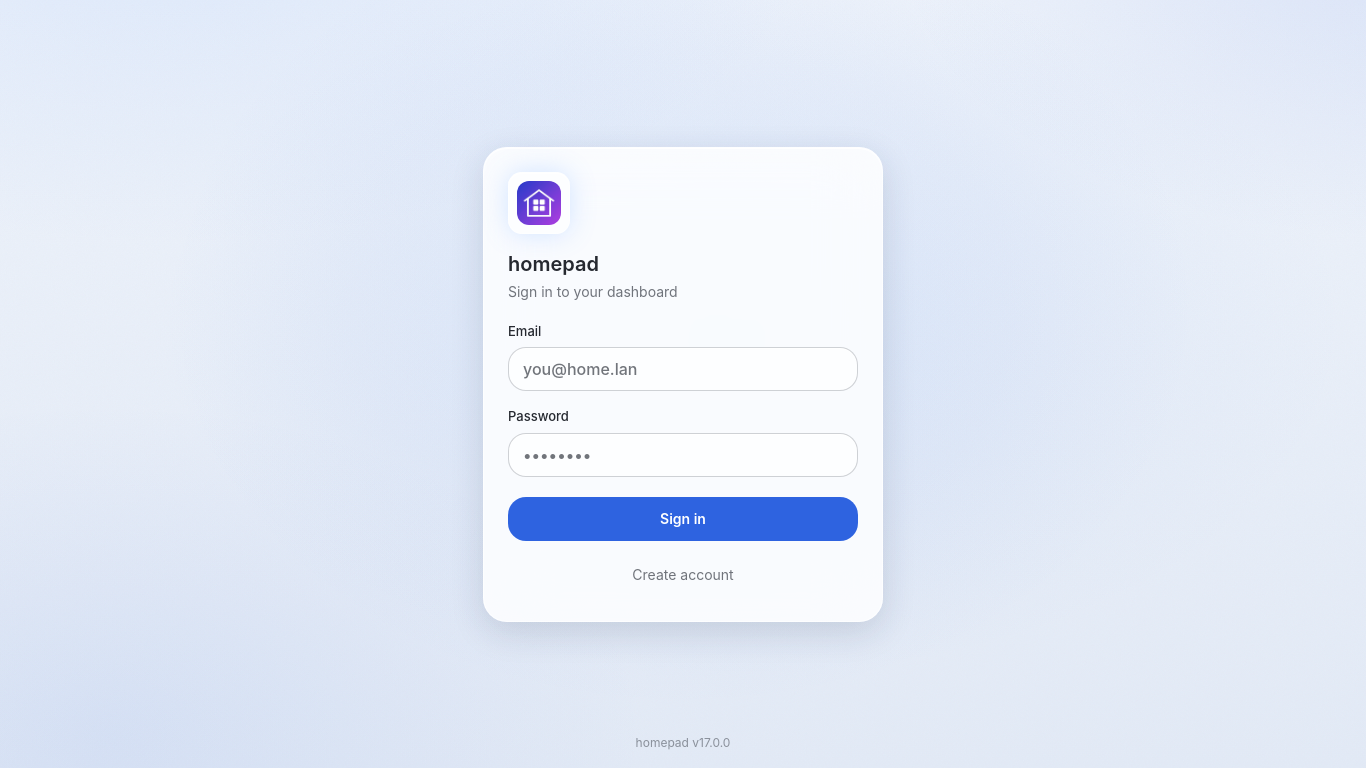
Test: auth gate › does not attempt login when registration fails
Click the button "Create account" at (683, 574), box 508,552 -> 858,596
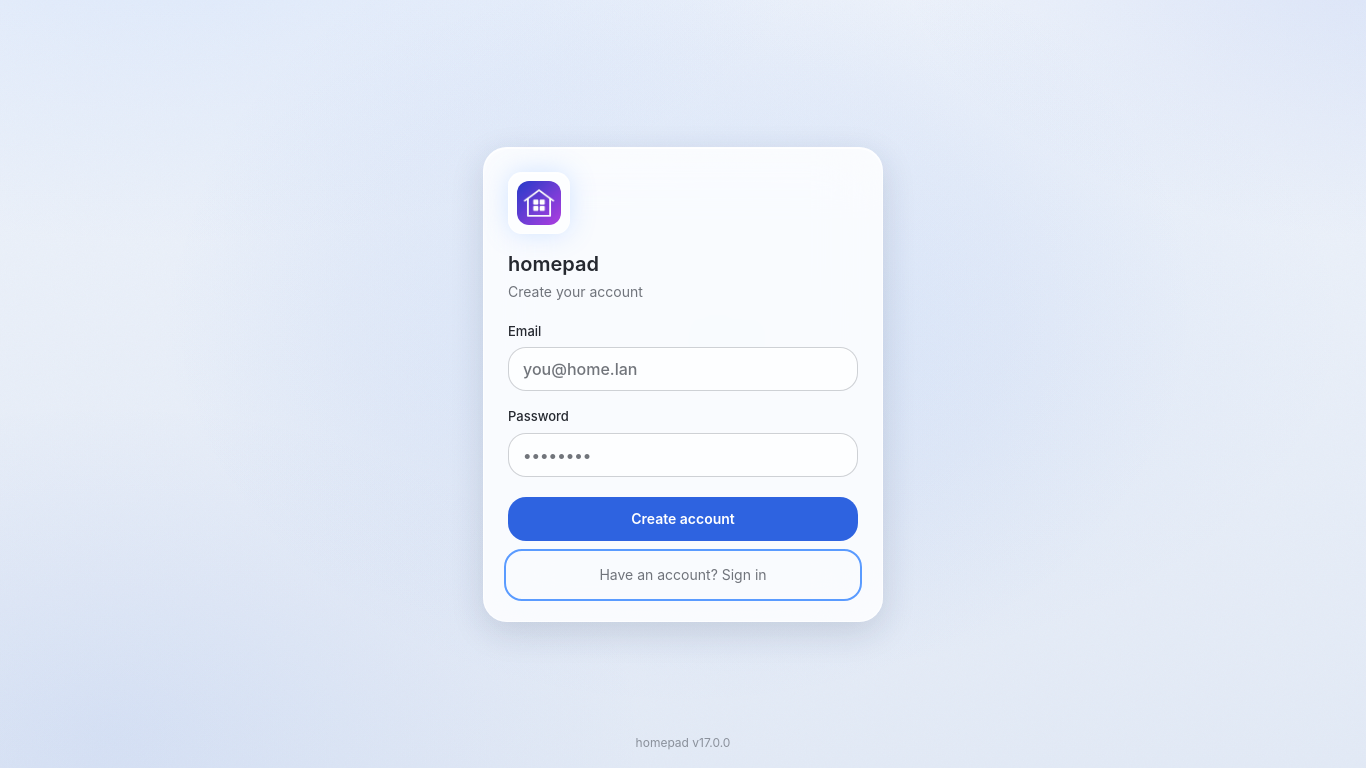
Type "nani@ohana.io" into the field labelled "Email" at (683, 369), box 508,347 -> 858,391
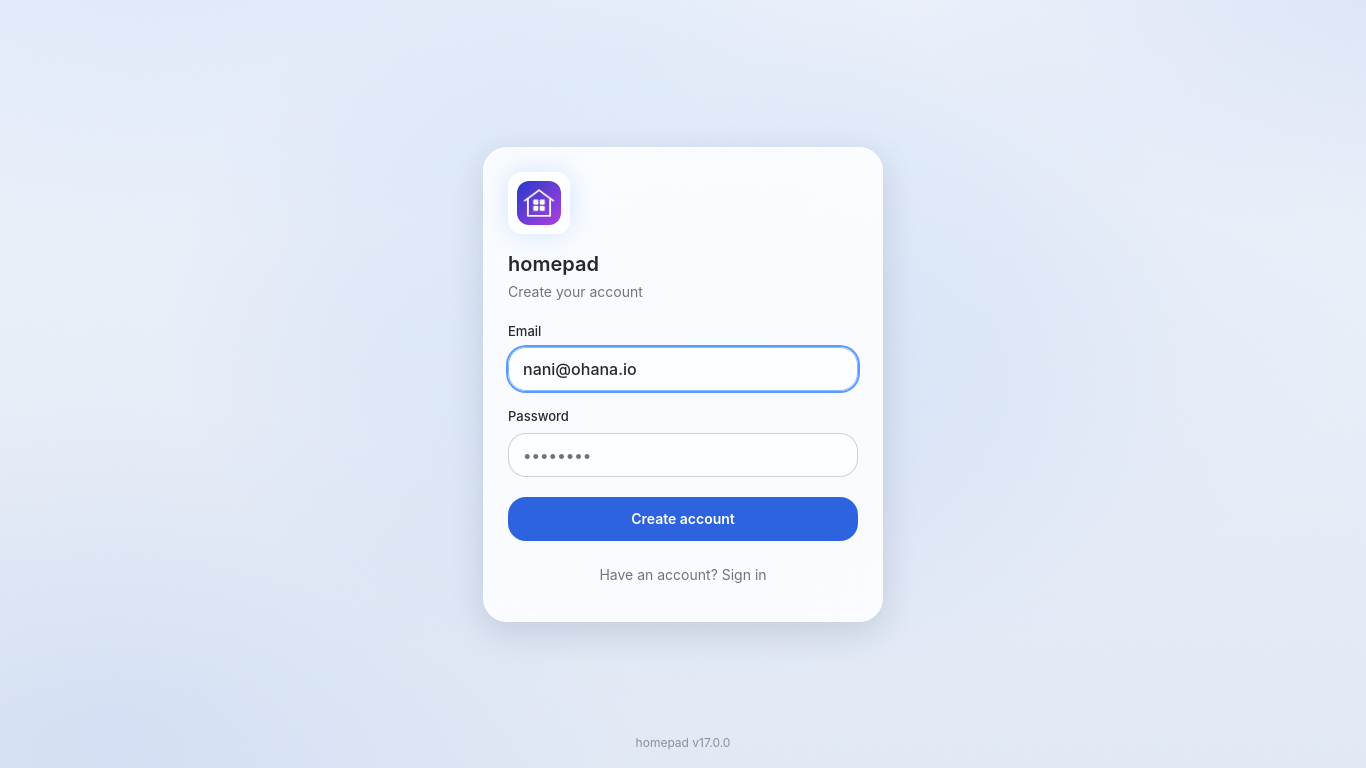
Type "stitch626" into the password field labelled "Password" at (683, 454), box 508,432 -> 858,476
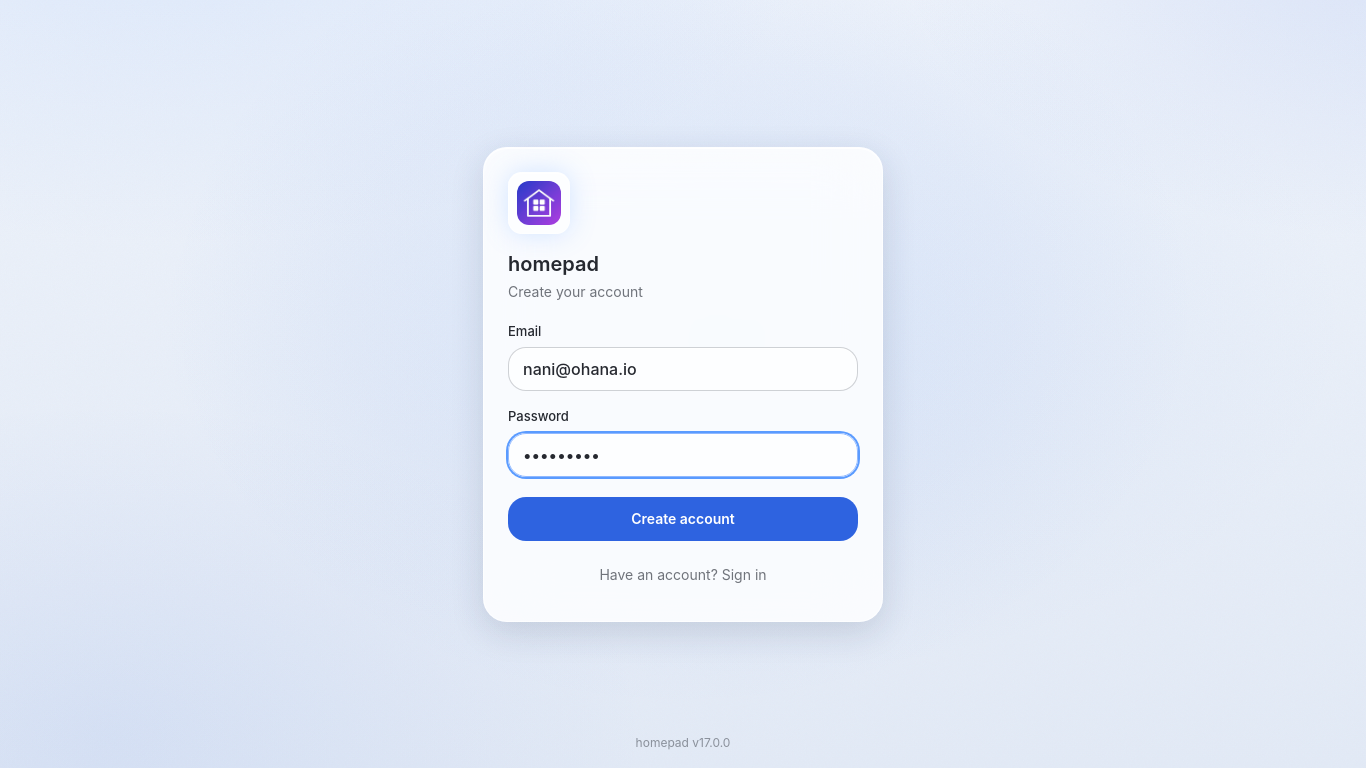
Click the button "Create account" at (683, 518), box 508,496 -> 858,540
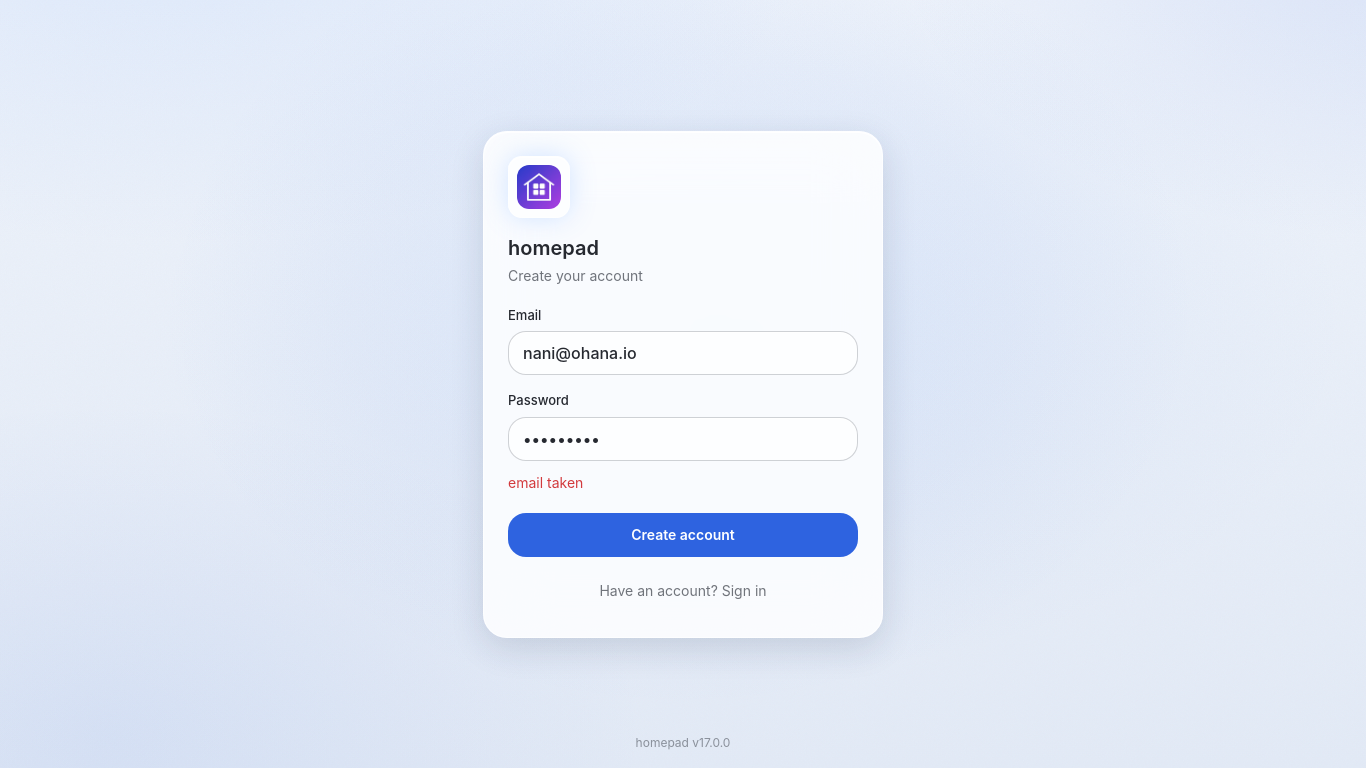
Expected: the text "email taken" is shown, 508,474 -> 583,490
